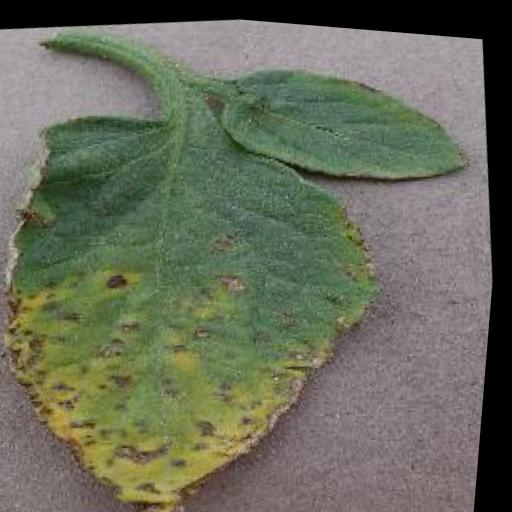Bacterial Spot: (0, 11, 511, 512)
